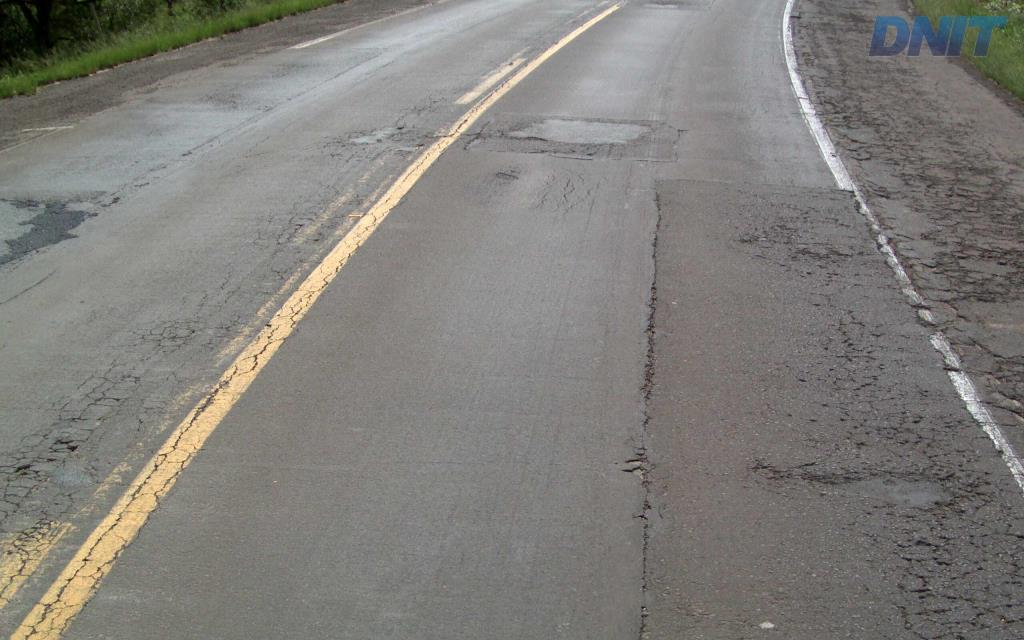crack: (620, 444, 666, 594), (639, 214, 661, 433), (916, 476, 995, 531), (918, 454, 961, 491), (793, 461, 838, 485)
